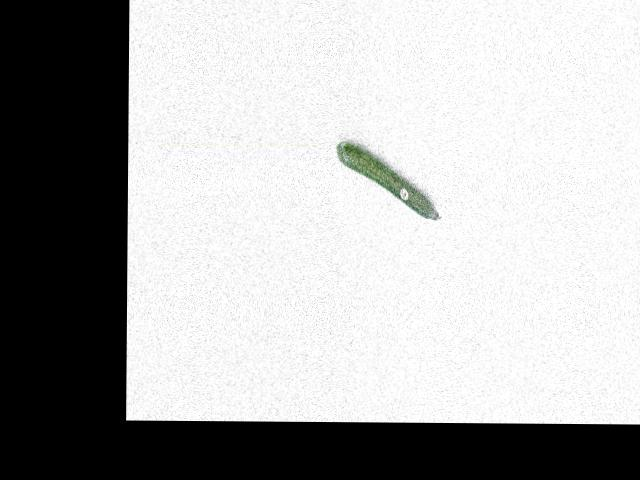cucumber: (337, 142, 442, 220)
